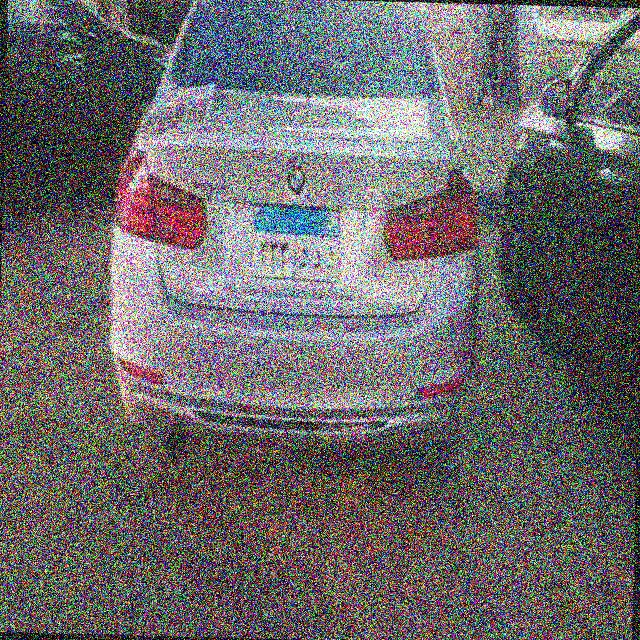License Plate: (250, 200, 342, 285)
